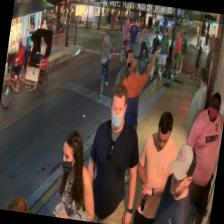person: (80, 80, 149, 224), (106, 44, 158, 190), (172, 88, 224, 224), (128, 107, 183, 224), (103, 48, 144, 179), (52, 129, 105, 222), (152, 140, 200, 224), (180, 66, 210, 169)
